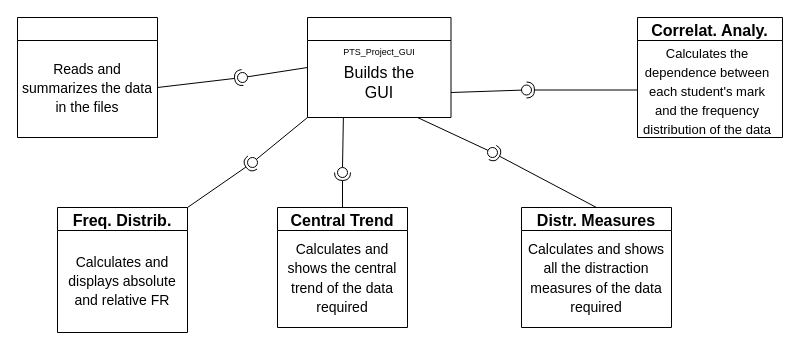
The diagram is 800 pixels wide and 350 high, and some of its shapes have lost their labels. Here are the shapes that lost their labels. From the top down, the box of each, then its label:
(16, 16, 158, 138): Data Summary
(306, 16, 451, 118): UI Manager
